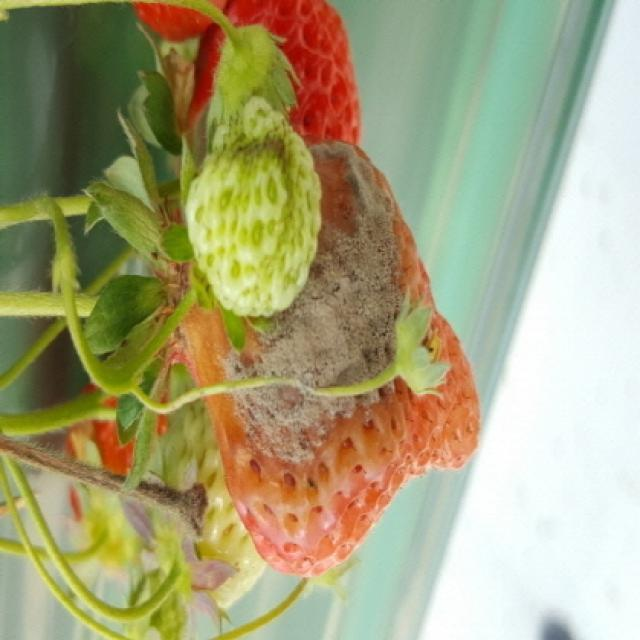Gray Mold: (195, 142, 482, 580)
